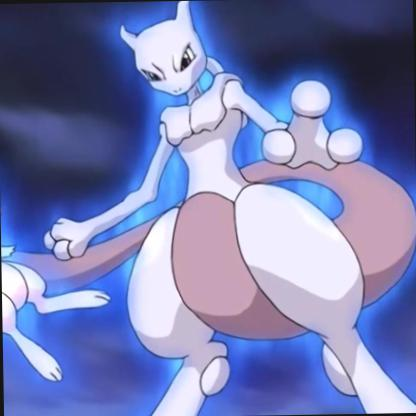Mewtu: (0, 2, 415, 415), (0, 0, 415, 406)
